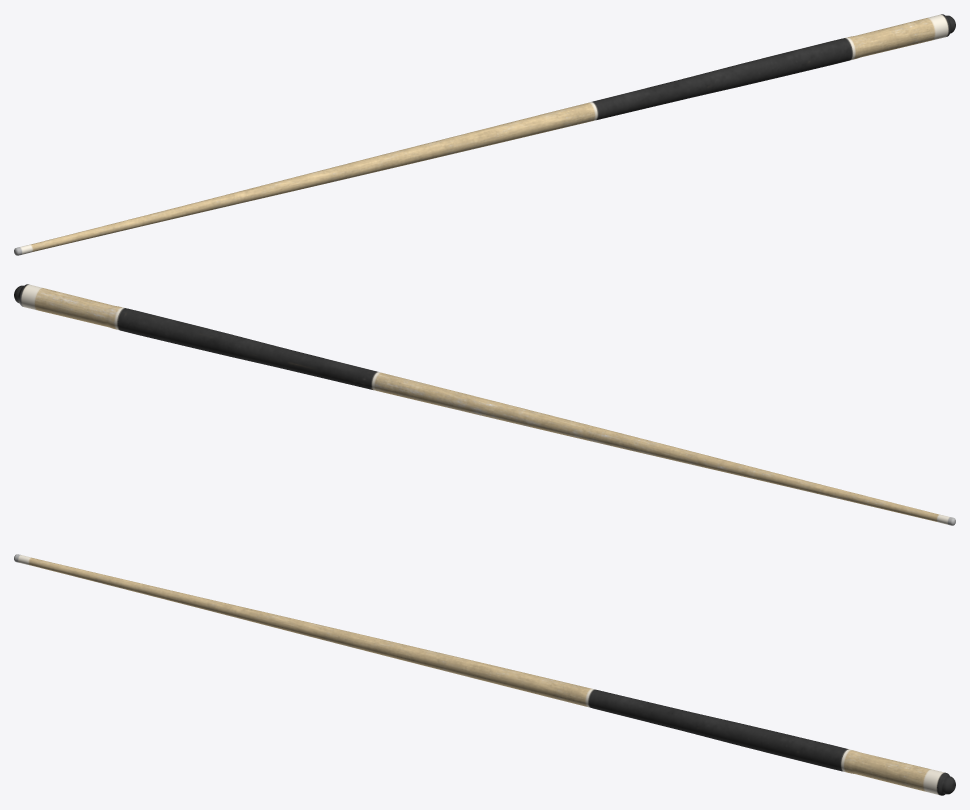
File: cue_simple4.glb
3 renders of one model, top to bottom at view 1: azimuth 30°, elevation 25°; view 2: azimuth 150°, elevation 25°; view 3: azimuth 330°, elevation 25°, orthographic.
Parts seen in each view (by area): view 1: cues4; view 2: cues4; view 3: cues4.
Boxes of the visible parts, x1,y1,x2,y2 form: cues4: [14, 14, 955, 255]; cues4: [14, 284, 955, 525]; cues4: [14, 554, 955, 795].
Bounding box in the file's own units: 1.81 × 0.039 × 0.039.
1 material, 1 textured.
